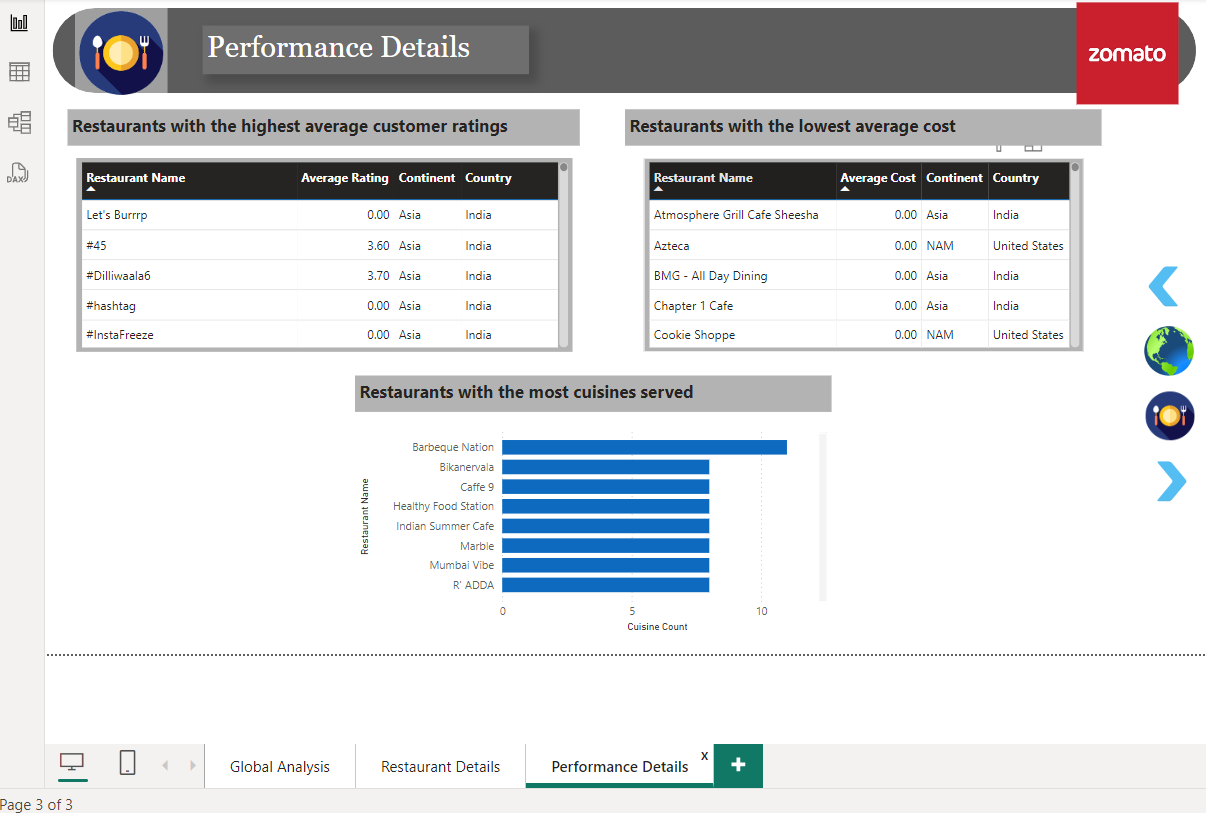

The page's visual inventory and layout, read from the dashboard file:
{"tool":"powerbi","page":{"name":"Performance Details","canvas":[1280,720],"ordinal":2},"visuals":[{"type":"shape","box":[8.2,11,1255.6,93.3],"z":0},{"type":"textbox","box":[172.9,30.2,358.1,53.5],"z":1000},{"type":"image","box":[1188.3,355.4,91.9,64.5],"z":2000},{"type":"image","box":[1096.1,0,183.9,122.1],"z":3000},{"type":"image","box":[1210.3,498.1,53.5,64.5],"z":4000},{"type":"image","box":[1200.7,288.2,53.5,56.3],"z":5000},{"type":"image","box":[32.9,0,101.5,120.8],"z":6000},{"type":"tableEx","fields":{"Values":["Zomato Regions.Restaurant Name","Fact Table.Average Rating","Country-Code.Continent","Country-Code.Country"]},"box":[34.3,175.6,544.8,212.7],"z":7000},{"type":"textbox","box":[24.7,122.1,562.6,39.8],"z":8000},{"type":"tableEx","fields":{"Values":["Zomato Regions.Restaurant Name","Fact Table.Average Cost","Country-Code.Continent","Country-Code.Country"]},"box":[657.3,175.6,483,212.7],"z":9000},{"type":"textbox","box":[636.7,122.1,522.8,39.8],"z":10000},{"type":"barChart","fields":{"Category":["Zomato Regions.Restaurant Name"],"Y":["Cuisines.Cuisine Count"]},"box":[340.3,463.8,522.8,237.4],"z":11000},{"type":"image","box":[1203.4,419.9,63.1,78.2],"z":12000},{"type":"textbox","box":[340.6,415,522.8,39.8],"z":12001}]}

Visuals, with their boxes on the page's 1280x720 design canvas (x1, y1, x2, y2). These are canvas units, not pixel positions in the 1206x813 screenshot, which may show the page scaled, cropped or inside an application window:
shape: 8 11 1264 104
textbox: 173 30 531 84
image: 1188 355 1280 420
image: 1096 0 1280 122
image: 1210 498 1264 563
image: 1201 288 1254 344
image: 33 0 134 121
tableEx - Zomato Regions.Restaurant Name x Fact Table.Average Rating: 34 176 579 388
textbox: 25 122 587 162
tableEx - Zomato Regions.Restaurant Name x Fact Table.Average Cost: 657 176 1140 388
textbox: 637 122 1160 162
barChart - Zomato Regions.Restaurant Name x Cuisines.Cuisine Count: 340 464 863 701
image: 1203 420 1266 498
textbox: 341 415 863 455
